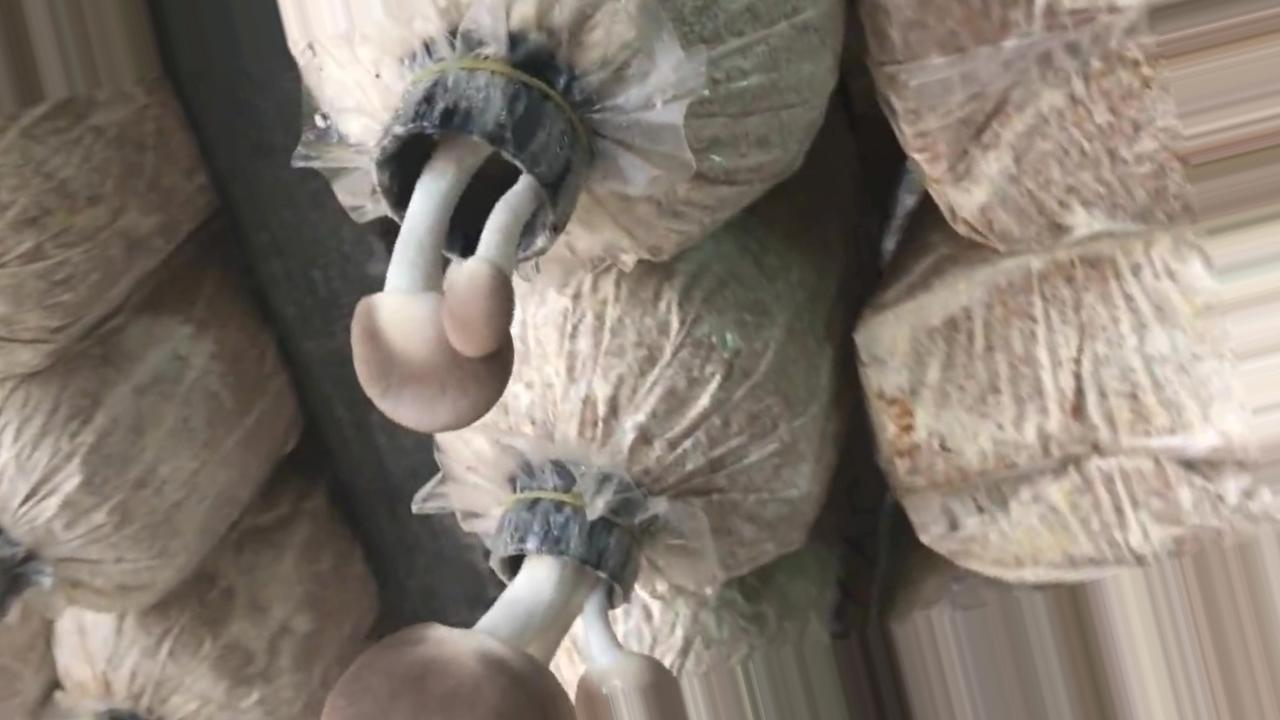nam: (324, 470, 677, 719), (352, 63, 571, 433)
